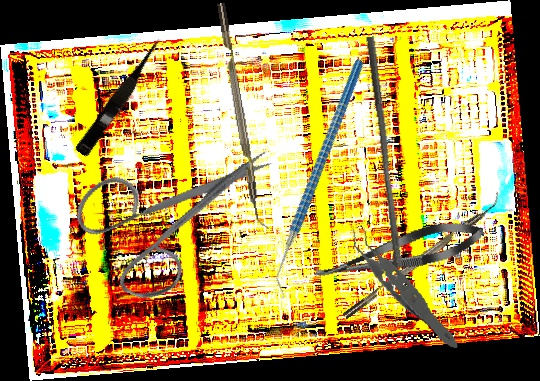Chopper: (208, 58, 433, 299), (336, 189, 507, 320), (217, 0, 272, 232)
Iris Scissors: (55, 95, 277, 325)
Micro Scissor: (309, 213, 488, 292), (74, 34, 169, 160)
Pusher: (356, 36, 412, 268)
Tissue Forceps: (349, 205, 459, 364)
